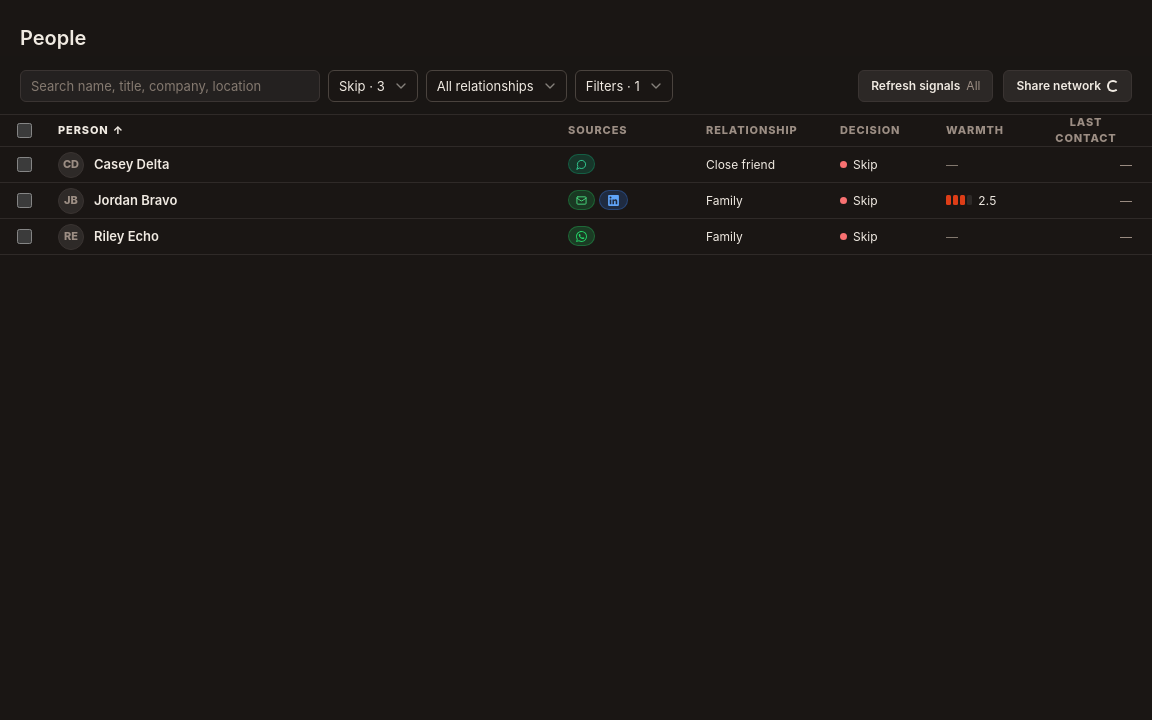
PeoplePage › shows the bar for an open person and stays on them after a label
This screenshot has width=1152, height=720.
// Open the middle person: the bar names them, and Use worth is gone.
Click the row "JB Jordan Bravo Family Skip 2.5 —": x=576, y=201 [0,183,1151,219]
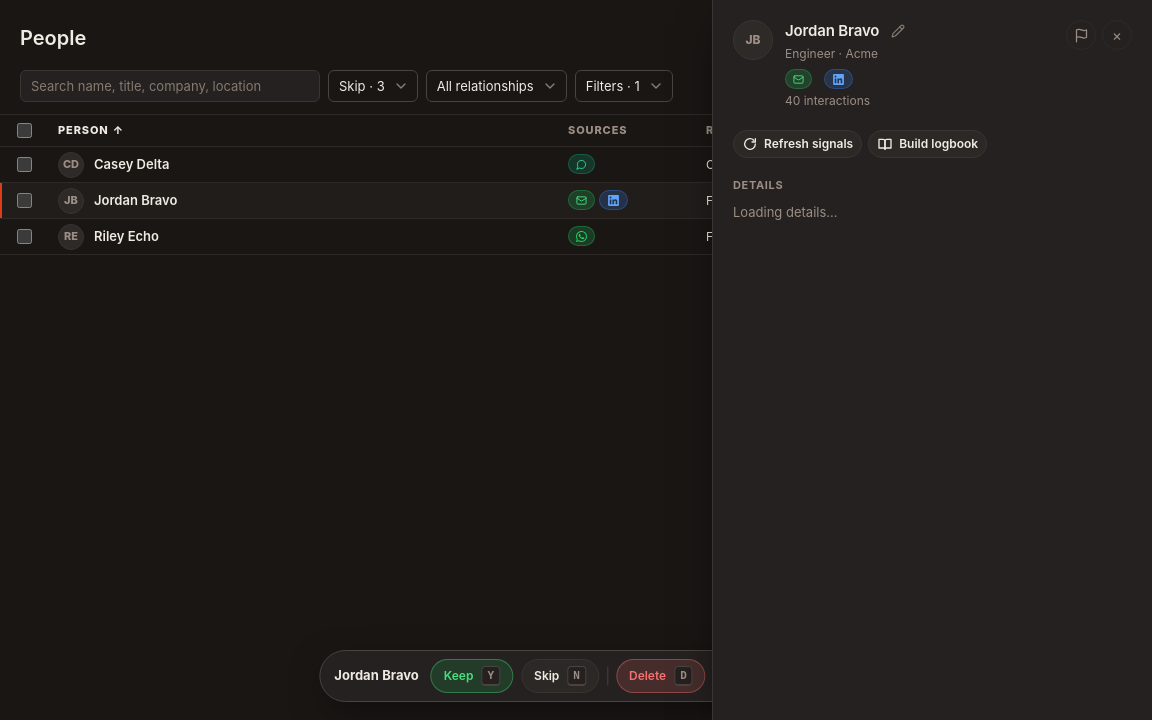
Check: the 3rd text "Jordan Bravo" is shown, box [334,666,419,685]
Click the button "Keep Y": x=472, y=676 [431,659,513,693]
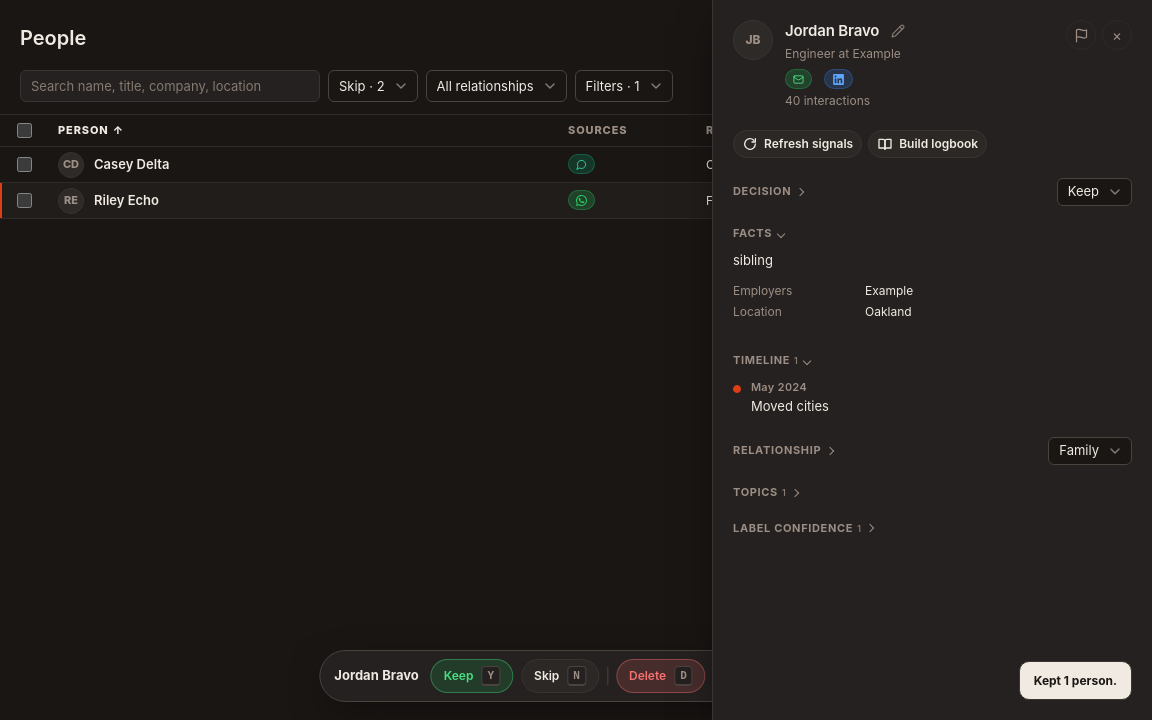
Check: the text "Jordan Bravo" next to "JB" is shown, box [785,21,879,40]
Check: the text "Keep" is shown, box [1068,182,1099,201]
